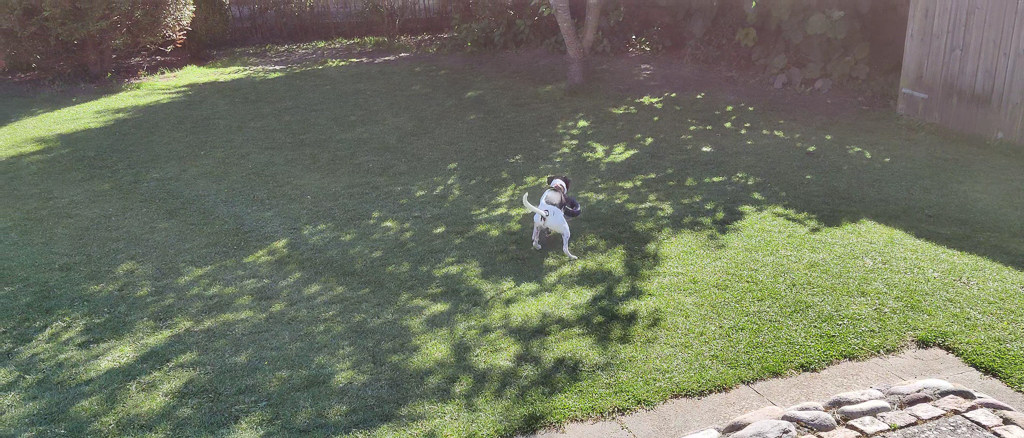Dog: (515, 171, 587, 264)
